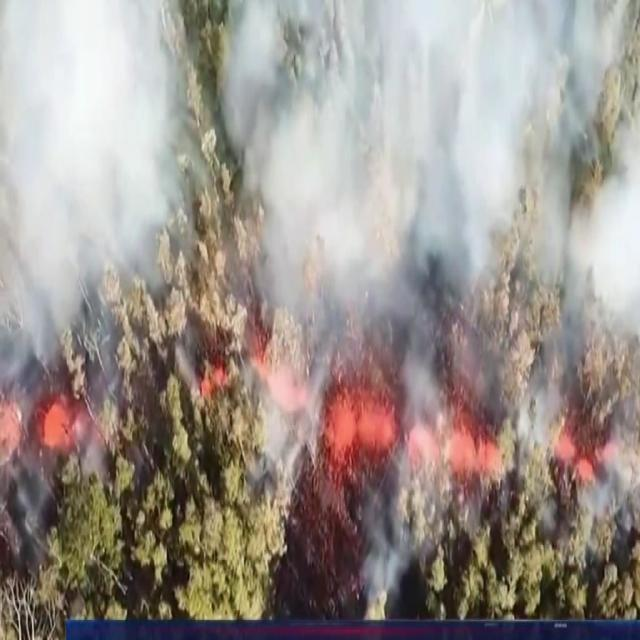Fire: (320, 366, 407, 510), (410, 403, 515, 490), (243, 312, 310, 422), (550, 417, 626, 488), (37, 390, 86, 456), (194, 358, 230, 406)
Smoke: (222, 0, 632, 497), (0, 0, 211, 545), (516, 0, 640, 564), (363, 320, 455, 604)
